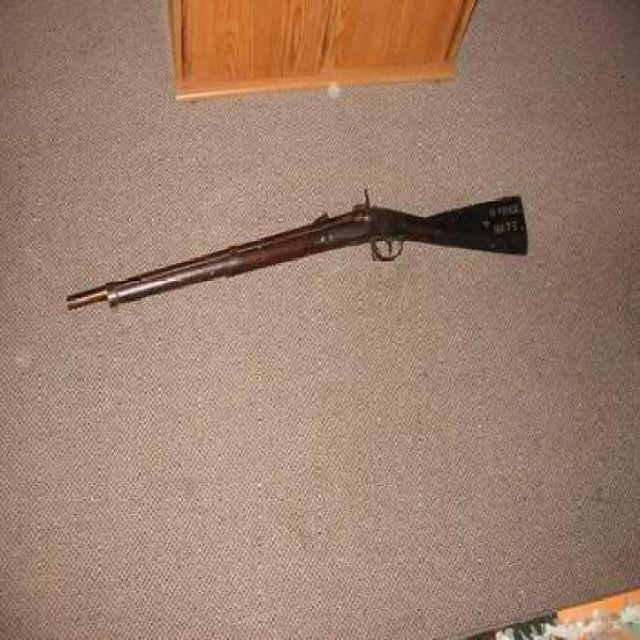weapon: (64, 188, 534, 318)
